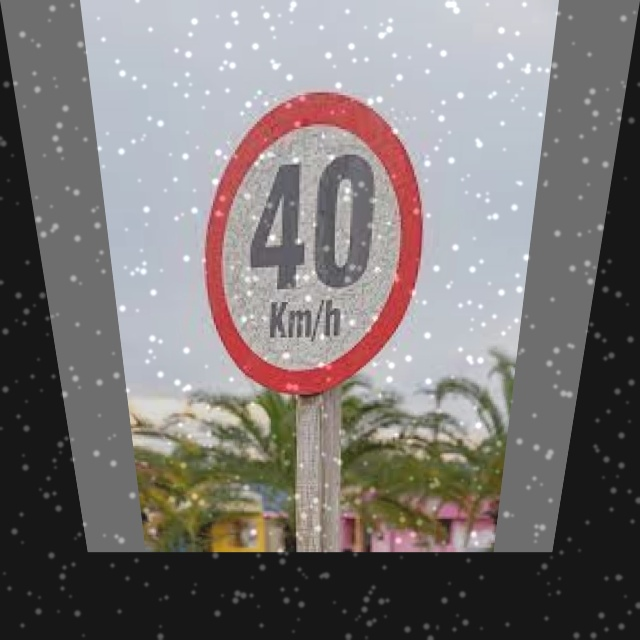Speed_Limit_40: (198, 91, 431, 383)
